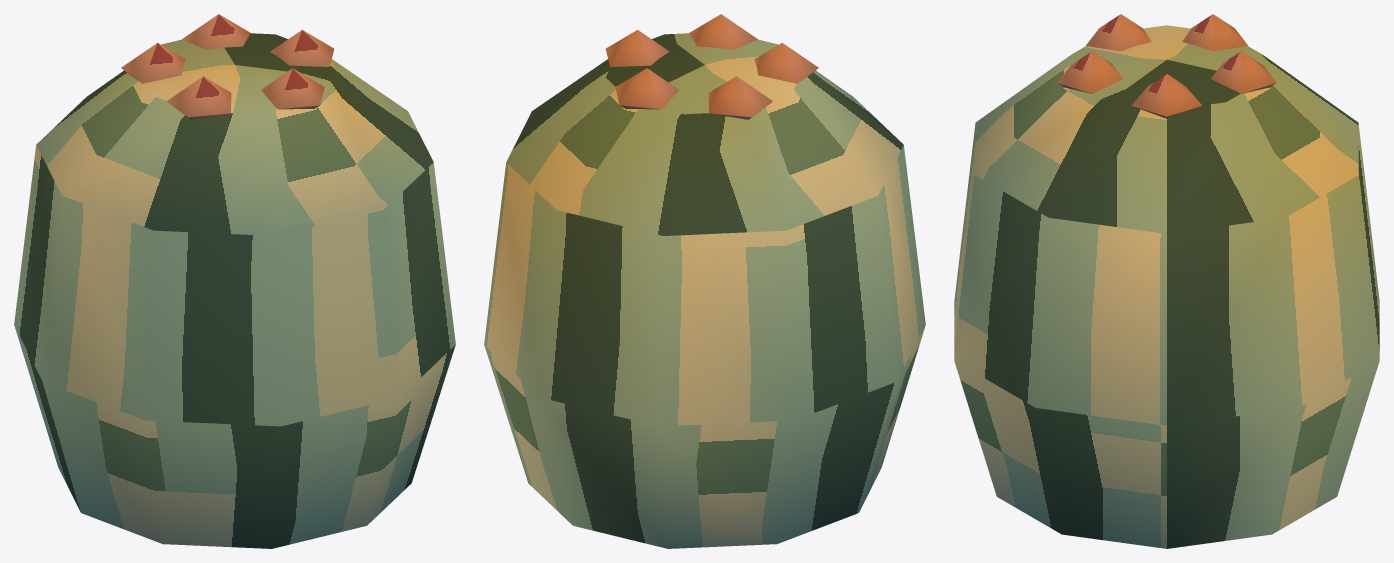
File: wprop.cactus__barrel.glb
3 renders of one model, left to right at view 1: azimuth 30°, elevation 25°; view 2: azimuth 150°, elevation 25°; view 3: azimuth 270°, elevation 25°, orthographic.
Parts seen in each view (by area): view 1: kit_body, kit_flowers; view 2: kit_body, kit_flowers; view 3: kit_body, kit_flowers.
Boxes of the visible parts, box(x1,y1,x2,y2) form: kit_body: box(14, 33, 455, 548); kit_flowers: box(121, 14, 334, 119); kit_body: box(484, 33, 925, 548); kit_flowers: box(605, 14, 818, 119); kit_body: box(954, 25, 1379, 548); kit_flowers: box(1057, 14, 1276, 118).
Bounding box in the file's own units: 0.6 × 0.64 × 0.5706.
Materials: 2 (2 with a texture image).
